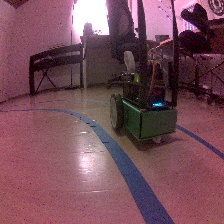rob: (108, 50, 178, 145)
